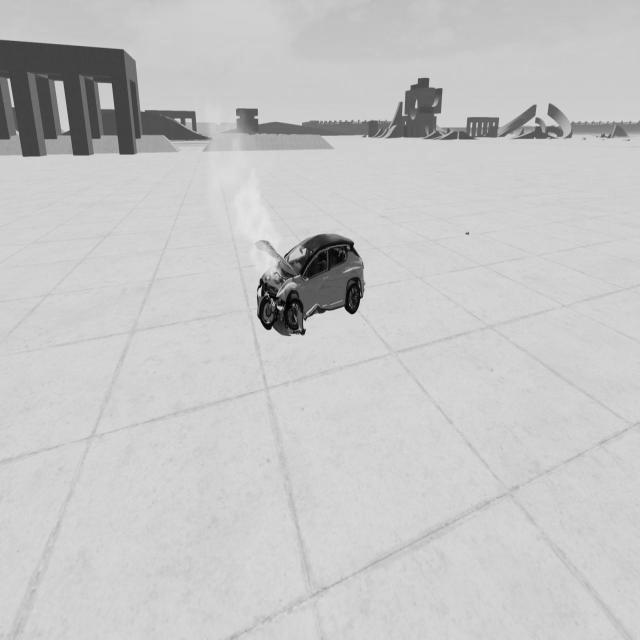accident: (252, 214, 369, 342)
